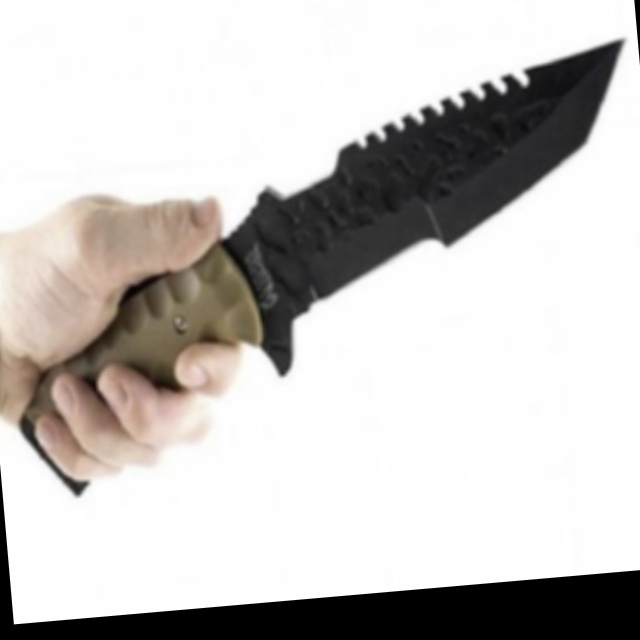Sharp-Object: (0, 40, 640, 501)
